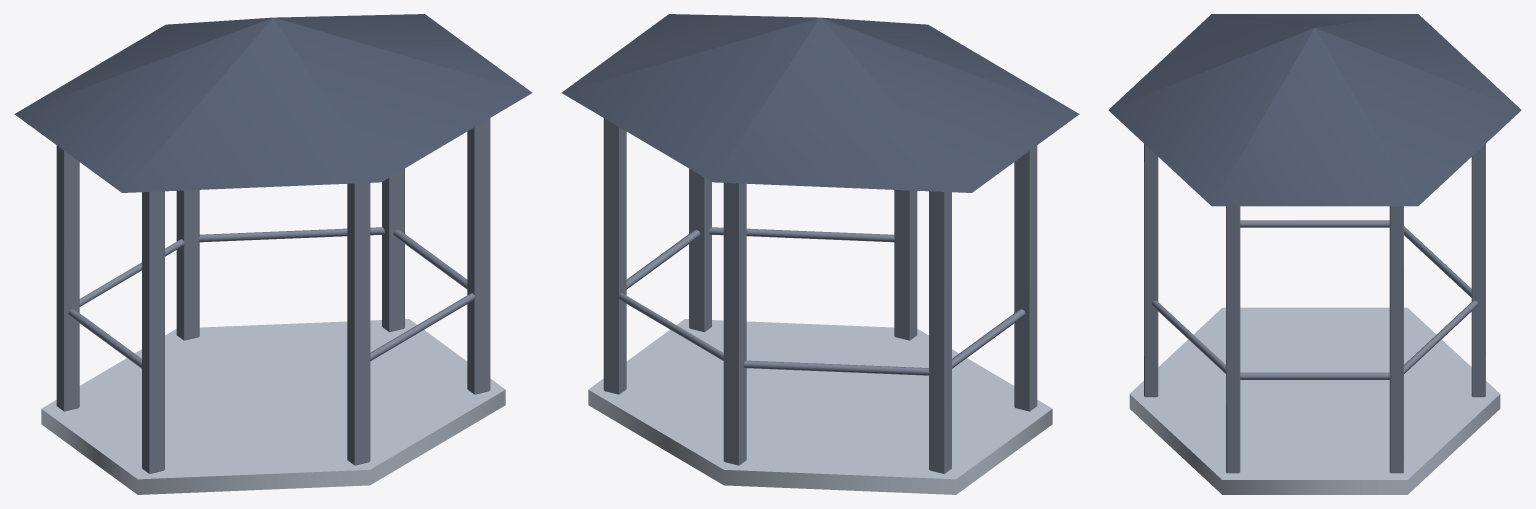
The model's file is garden-gazebo-hex-lite.glb.
The picture shows the model from 3 angles, left to right: view 1: azimuth 30°, elevation 25°; view 2: azimuth 150°, elevation 25°; view 3: azimuth 270°, elevation 25°; orthographic projection. The views are drawn at different scales.
Visible parts, largest first — view 1: garden-gazebo-hex; view 2: garden-gazebo-hex; view 3: garden-gazebo-hex.
Part boxes in pixels (<box>): garden-gazebo-hex: <box>14,14,532,494</box>; garden-gazebo-hex: <box>561,14,1079,494</box>; garden-gazebo-hex: <box>1108,14,1521,494</box>.
Bounding box in the file's own units: 3.3 × 3.05 × 3.
